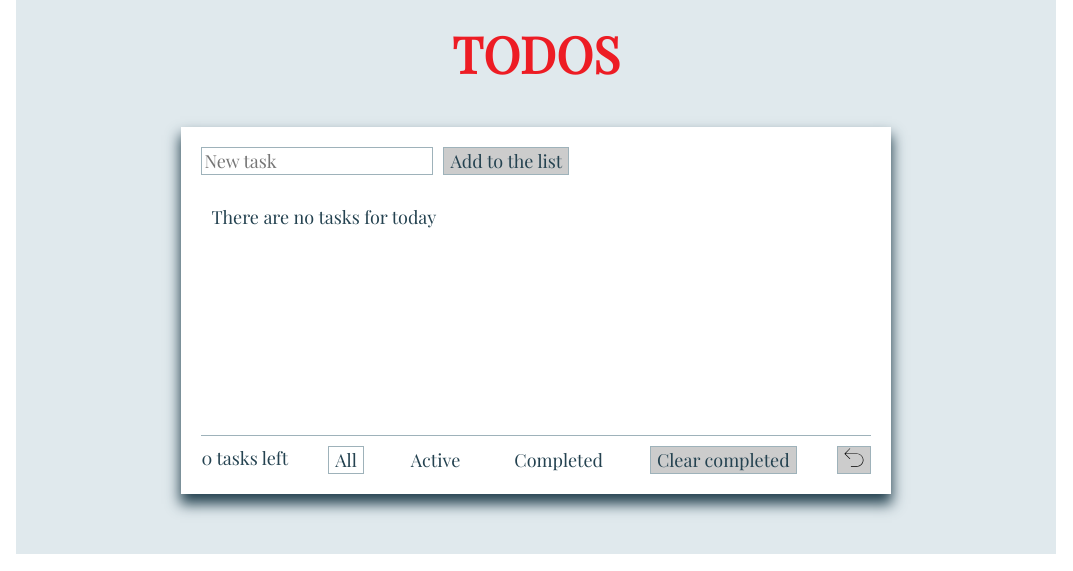
Scenario: отображение количества оставшихся задач
This screenshot has width=1073, height=571.
In the field with placeholder "New task": point(317, 161) [201,147,433,175], type "Задача 1"
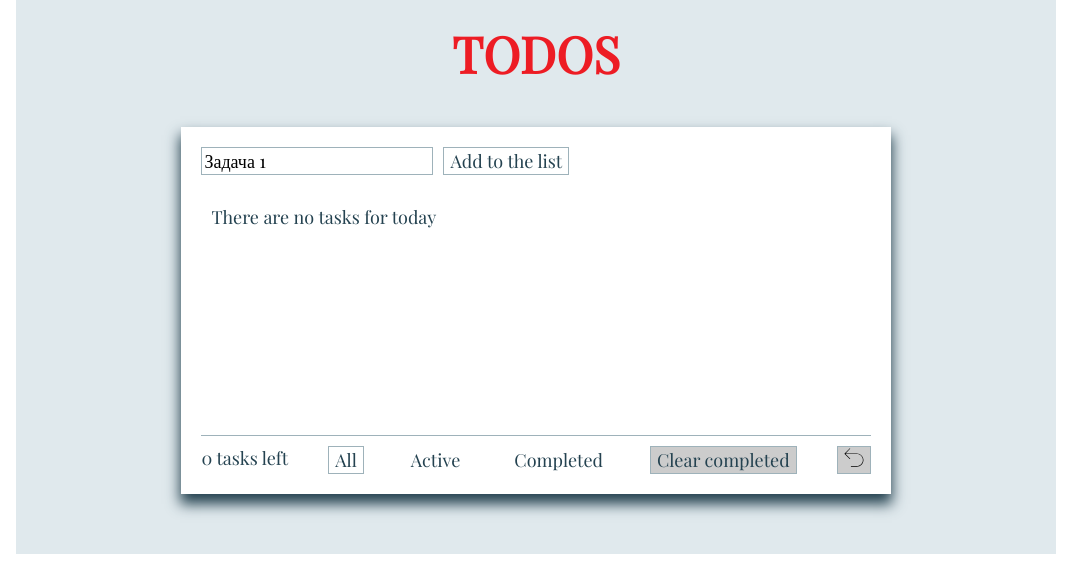
Click the button "Add to the list": point(506, 161) [443,147,569,175]
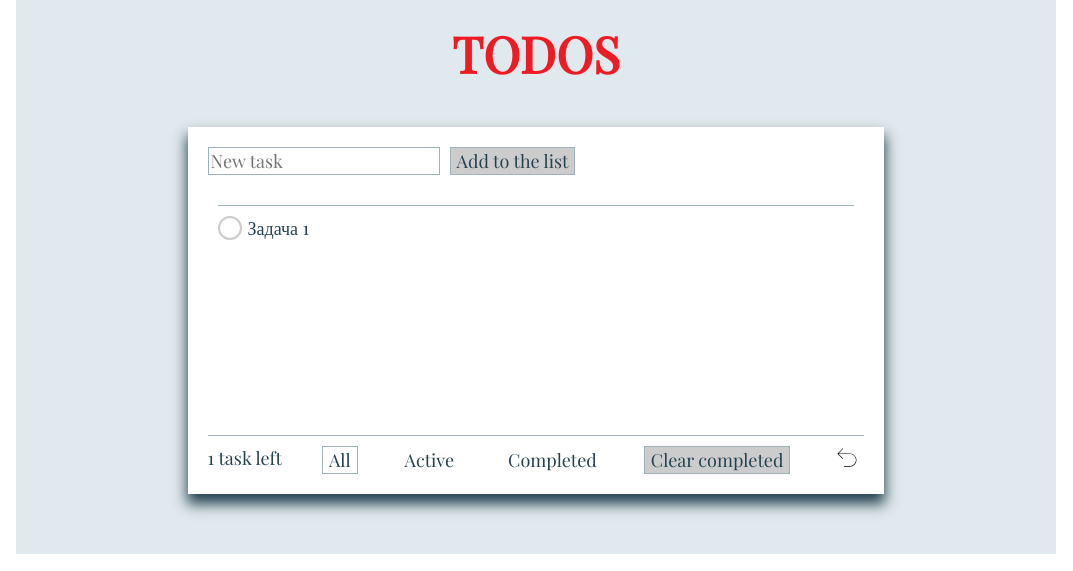
In the field with placeholder "New task": point(324, 161) [208,147,440,175], type "Задача 2"
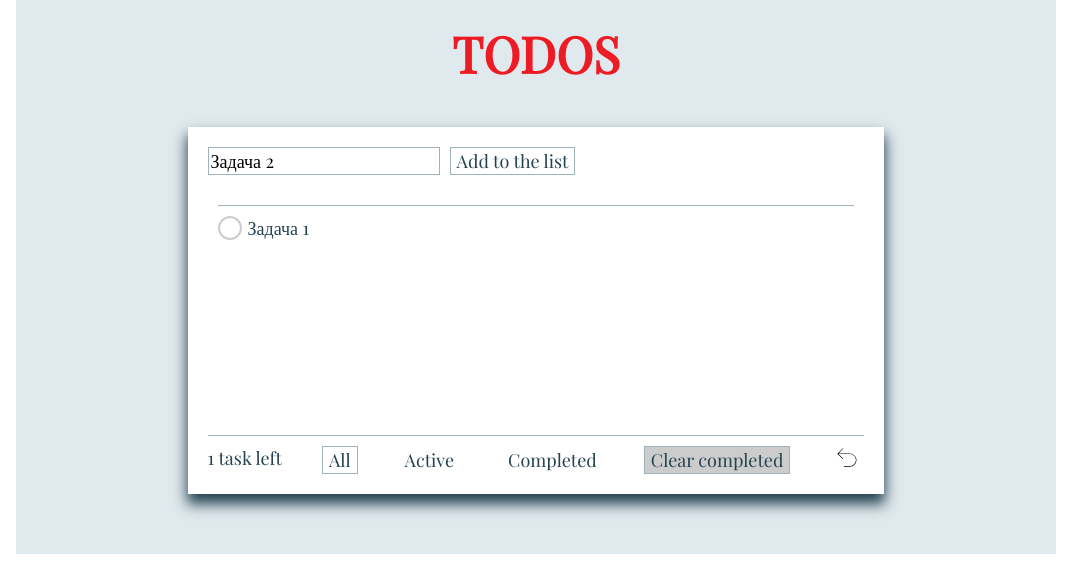
Click the button "Add to the list": point(512, 161) [450,147,575,175]
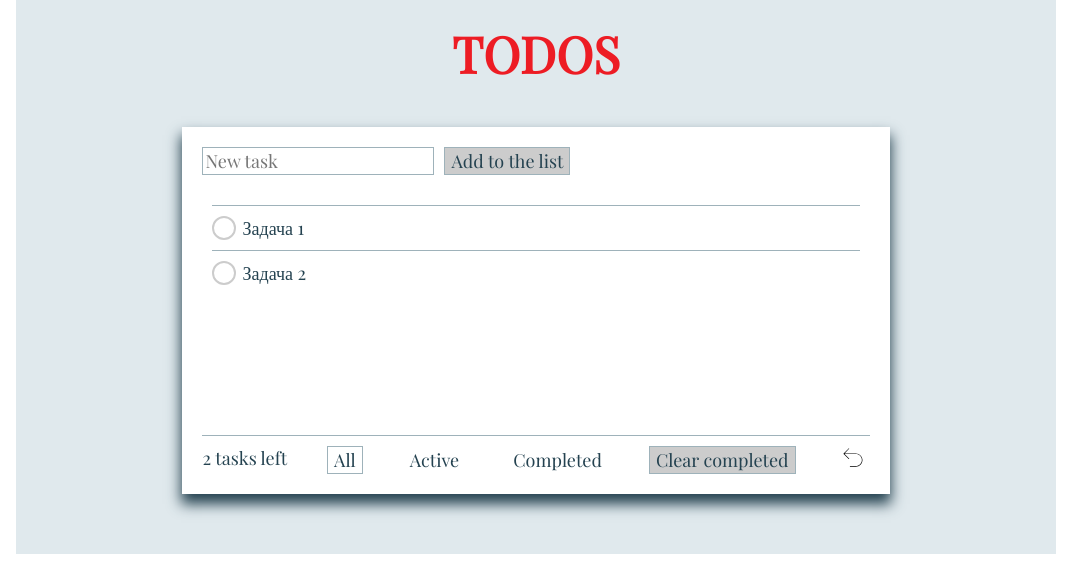
expect the heading "2 tasks left" is shown: met, box [202,446,287,474]
Click the checkbox labelled "Задача 1": point(258, 228) [212,216,304,240]
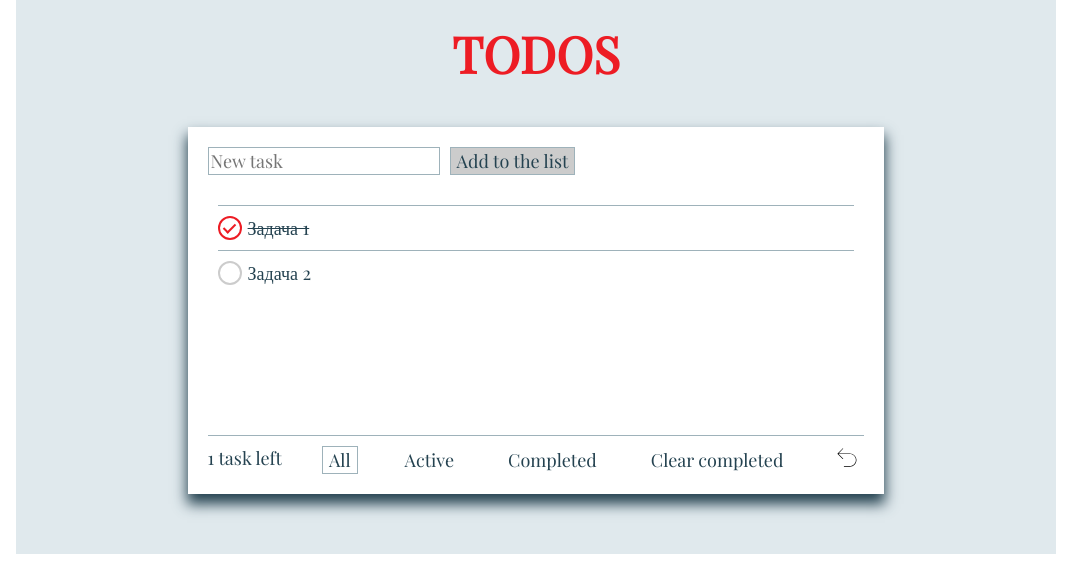
expect the heading "tasks left" reads "1 task left": met, box [208,446,282,470]
